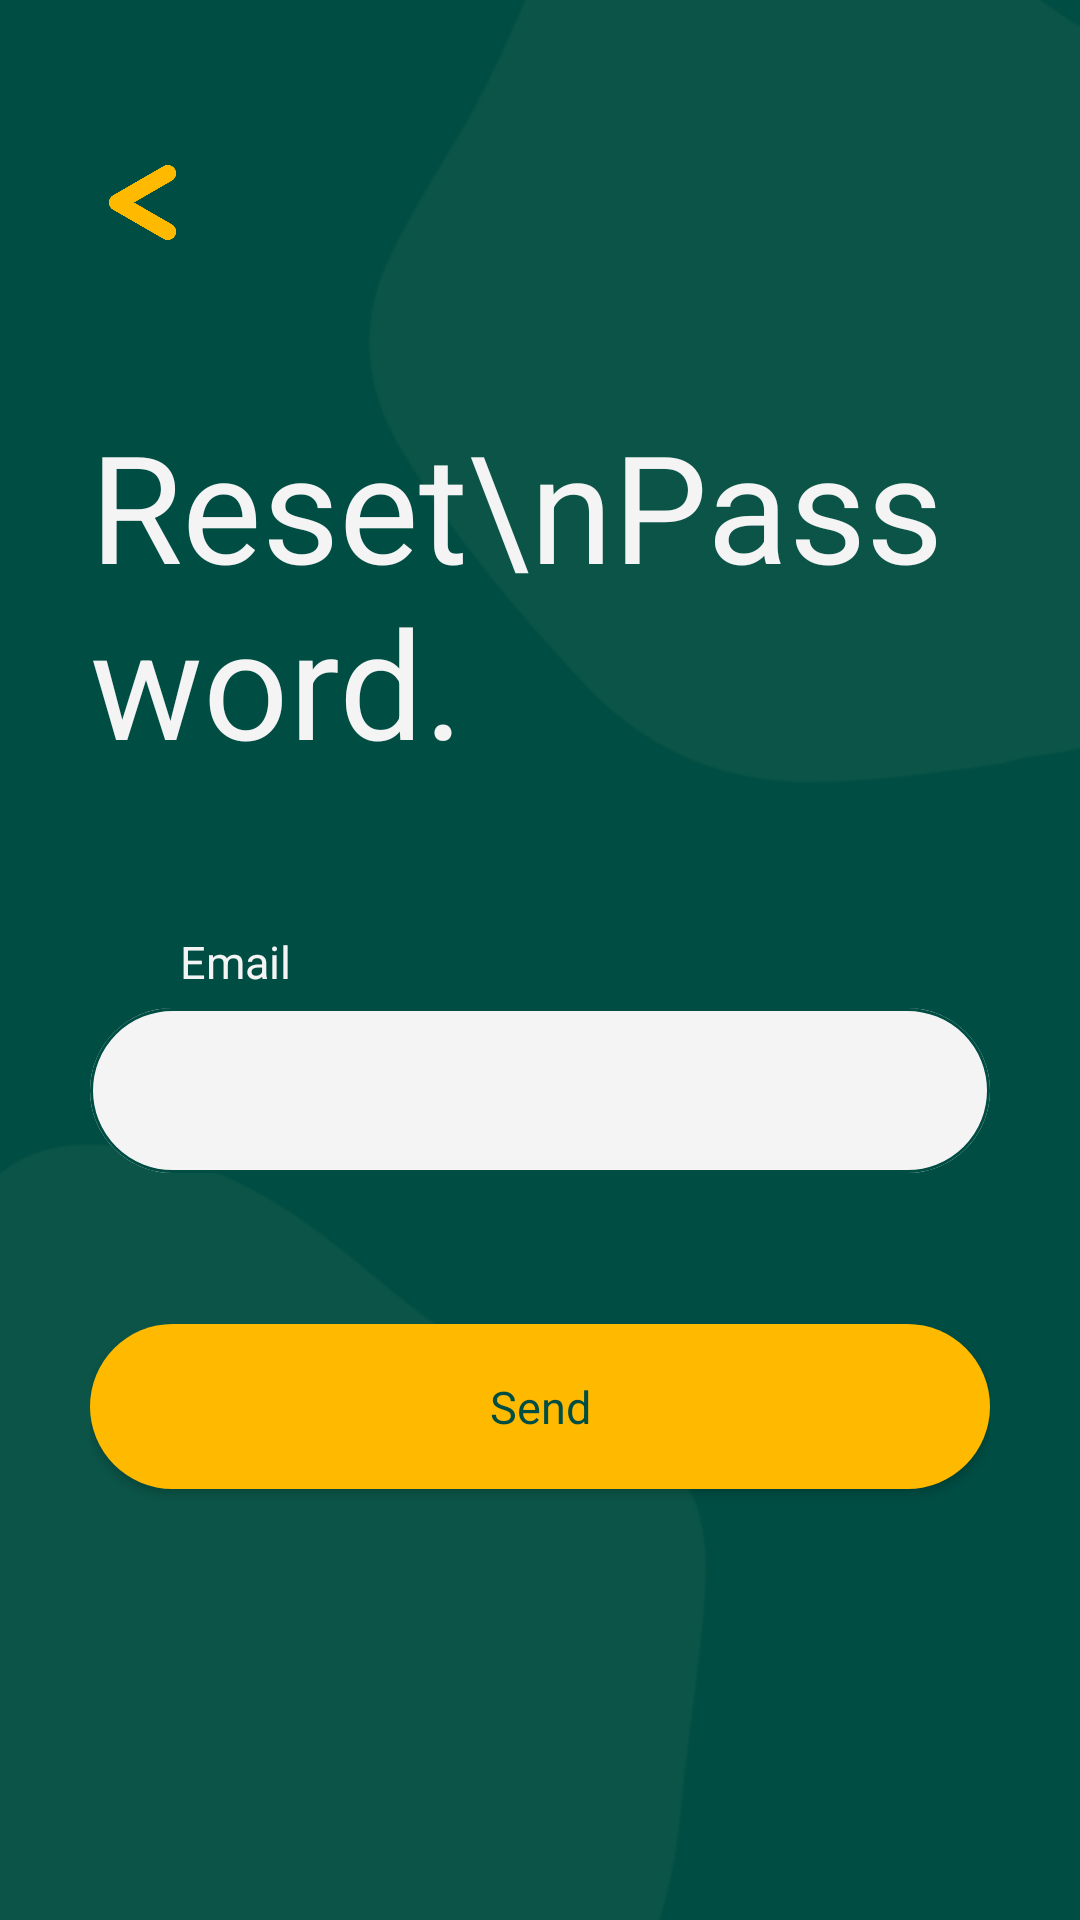

Point at icon controls on the screen. Image size 1080×1920, points as [x,y].
back: [142,202]
